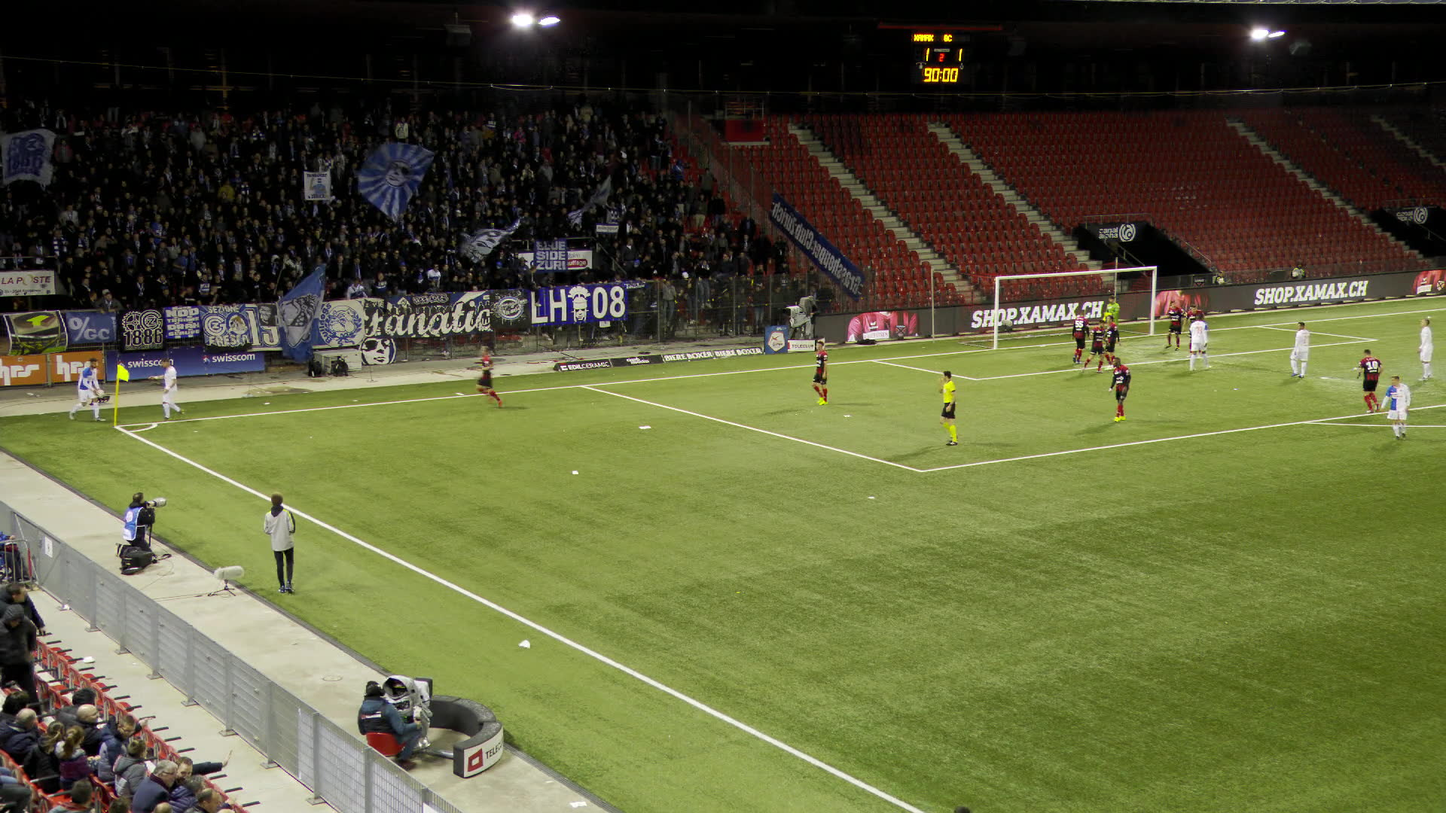ball: (94, 388, 102, 396)
player: (69, 357, 106, 421), (150, 357, 185, 421), (1382, 375, 1411, 440), (1358, 348, 1383, 413), (479, 348, 506, 408), (808, 343, 833, 404), (1109, 357, 1130, 423), (1083, 319, 1108, 373), (1188, 313, 1210, 371), (1288, 322, 1310, 379), (1185, 305, 1208, 358), (1161, 301, 1184, 349), (1415, 318, 1432, 381), (1069, 311, 1088, 364), (1103, 315, 1119, 363), (1102, 293, 1121, 331)
referee: (935, 370, 966, 444)
